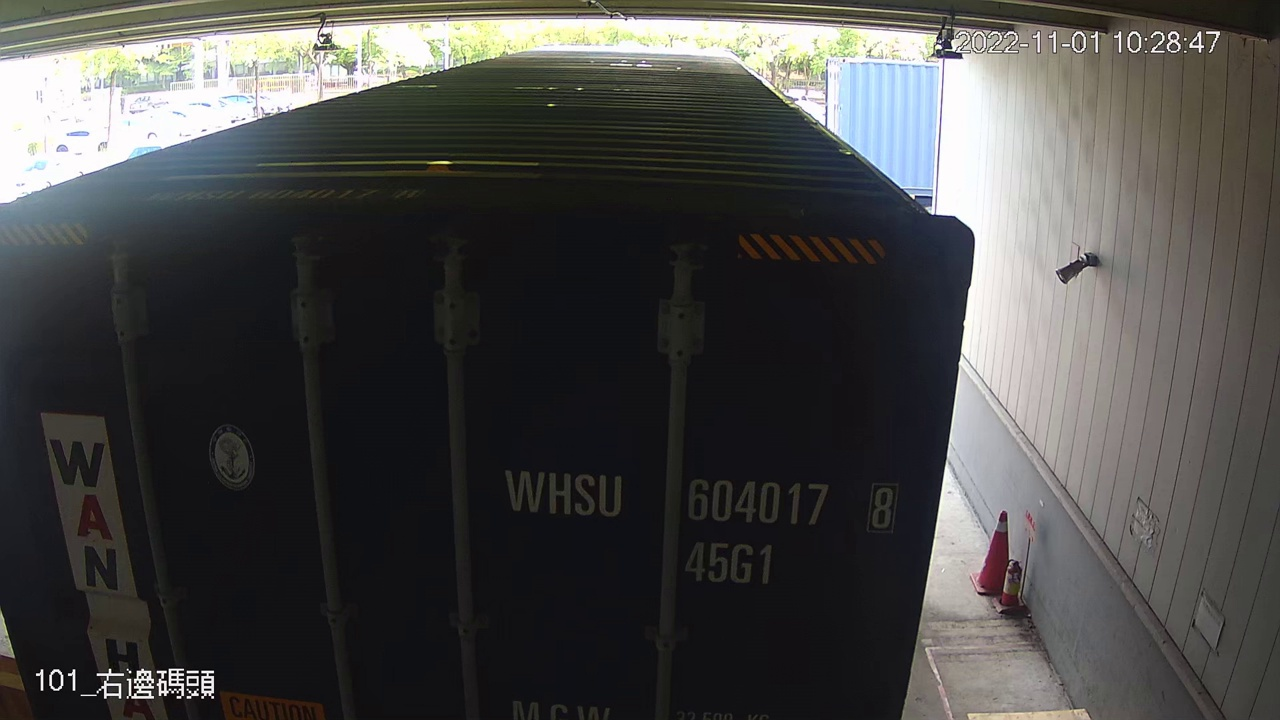container: (490, 446, 914, 595)
